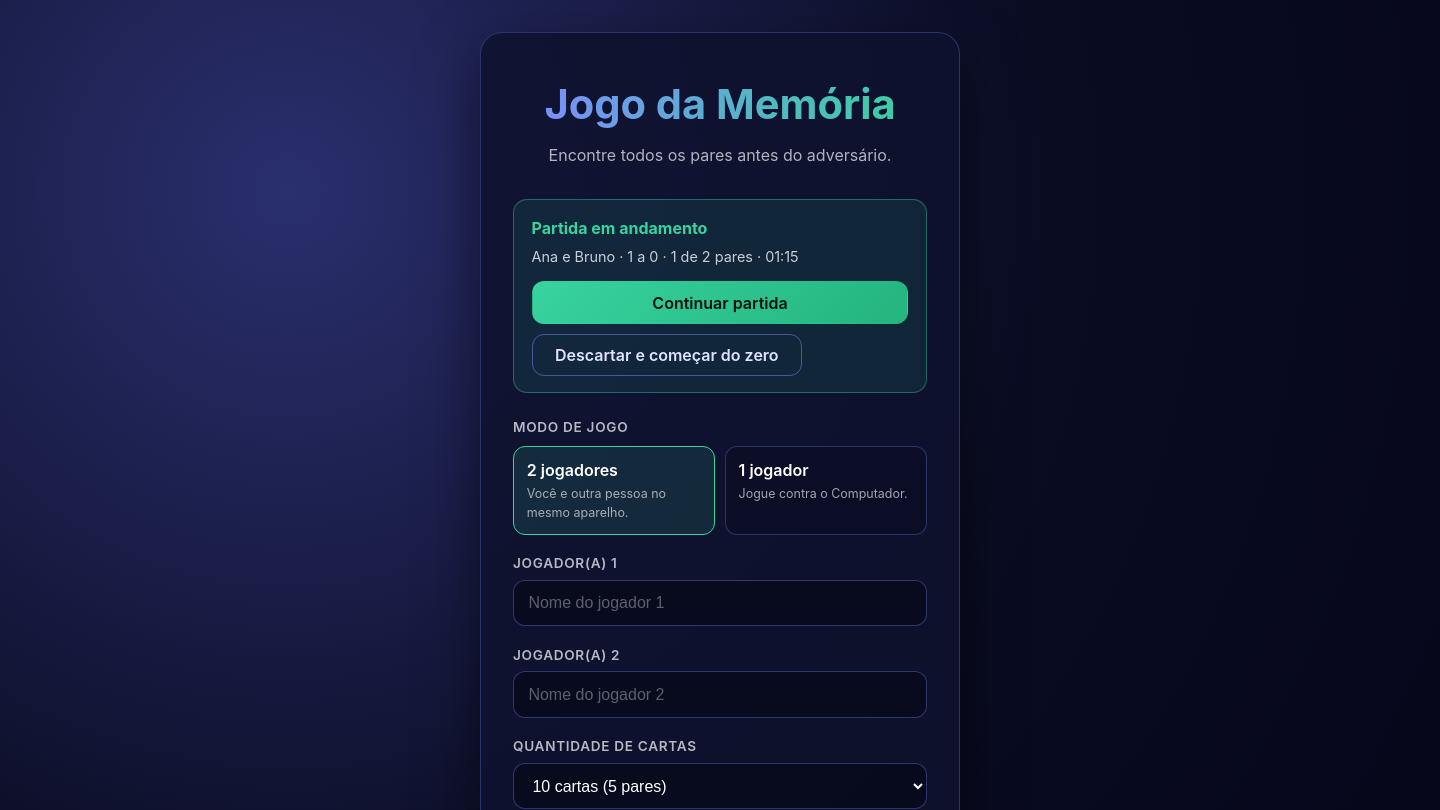
Test: InitialForm: partida salva › descarta a partida salva e some com o bloco
The image size is (1440, 810).
Click the button "Descartar e começar do zero": (667, 355) [532, 334, 802, 376]
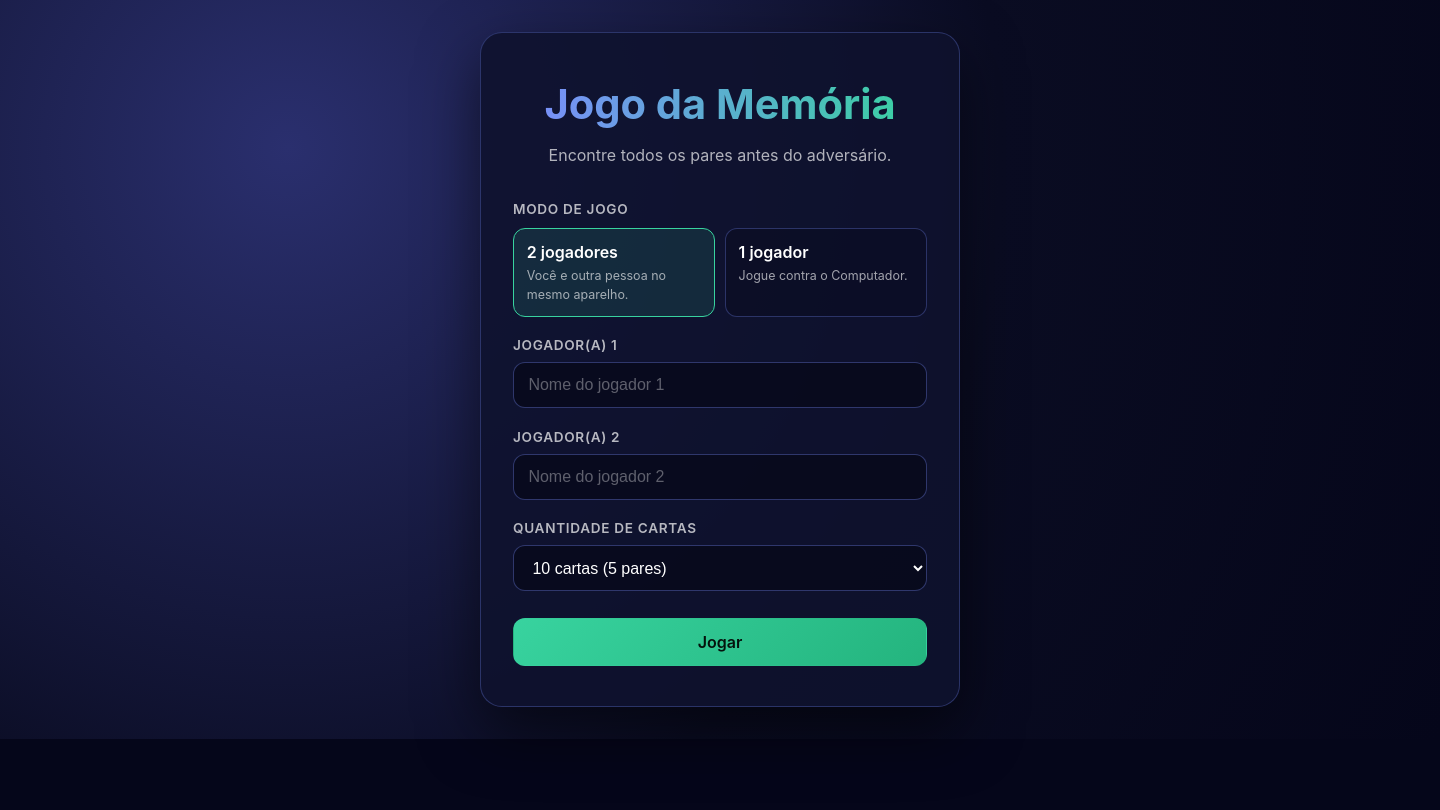
Expected: the heading "Partida em andamento" is gone
